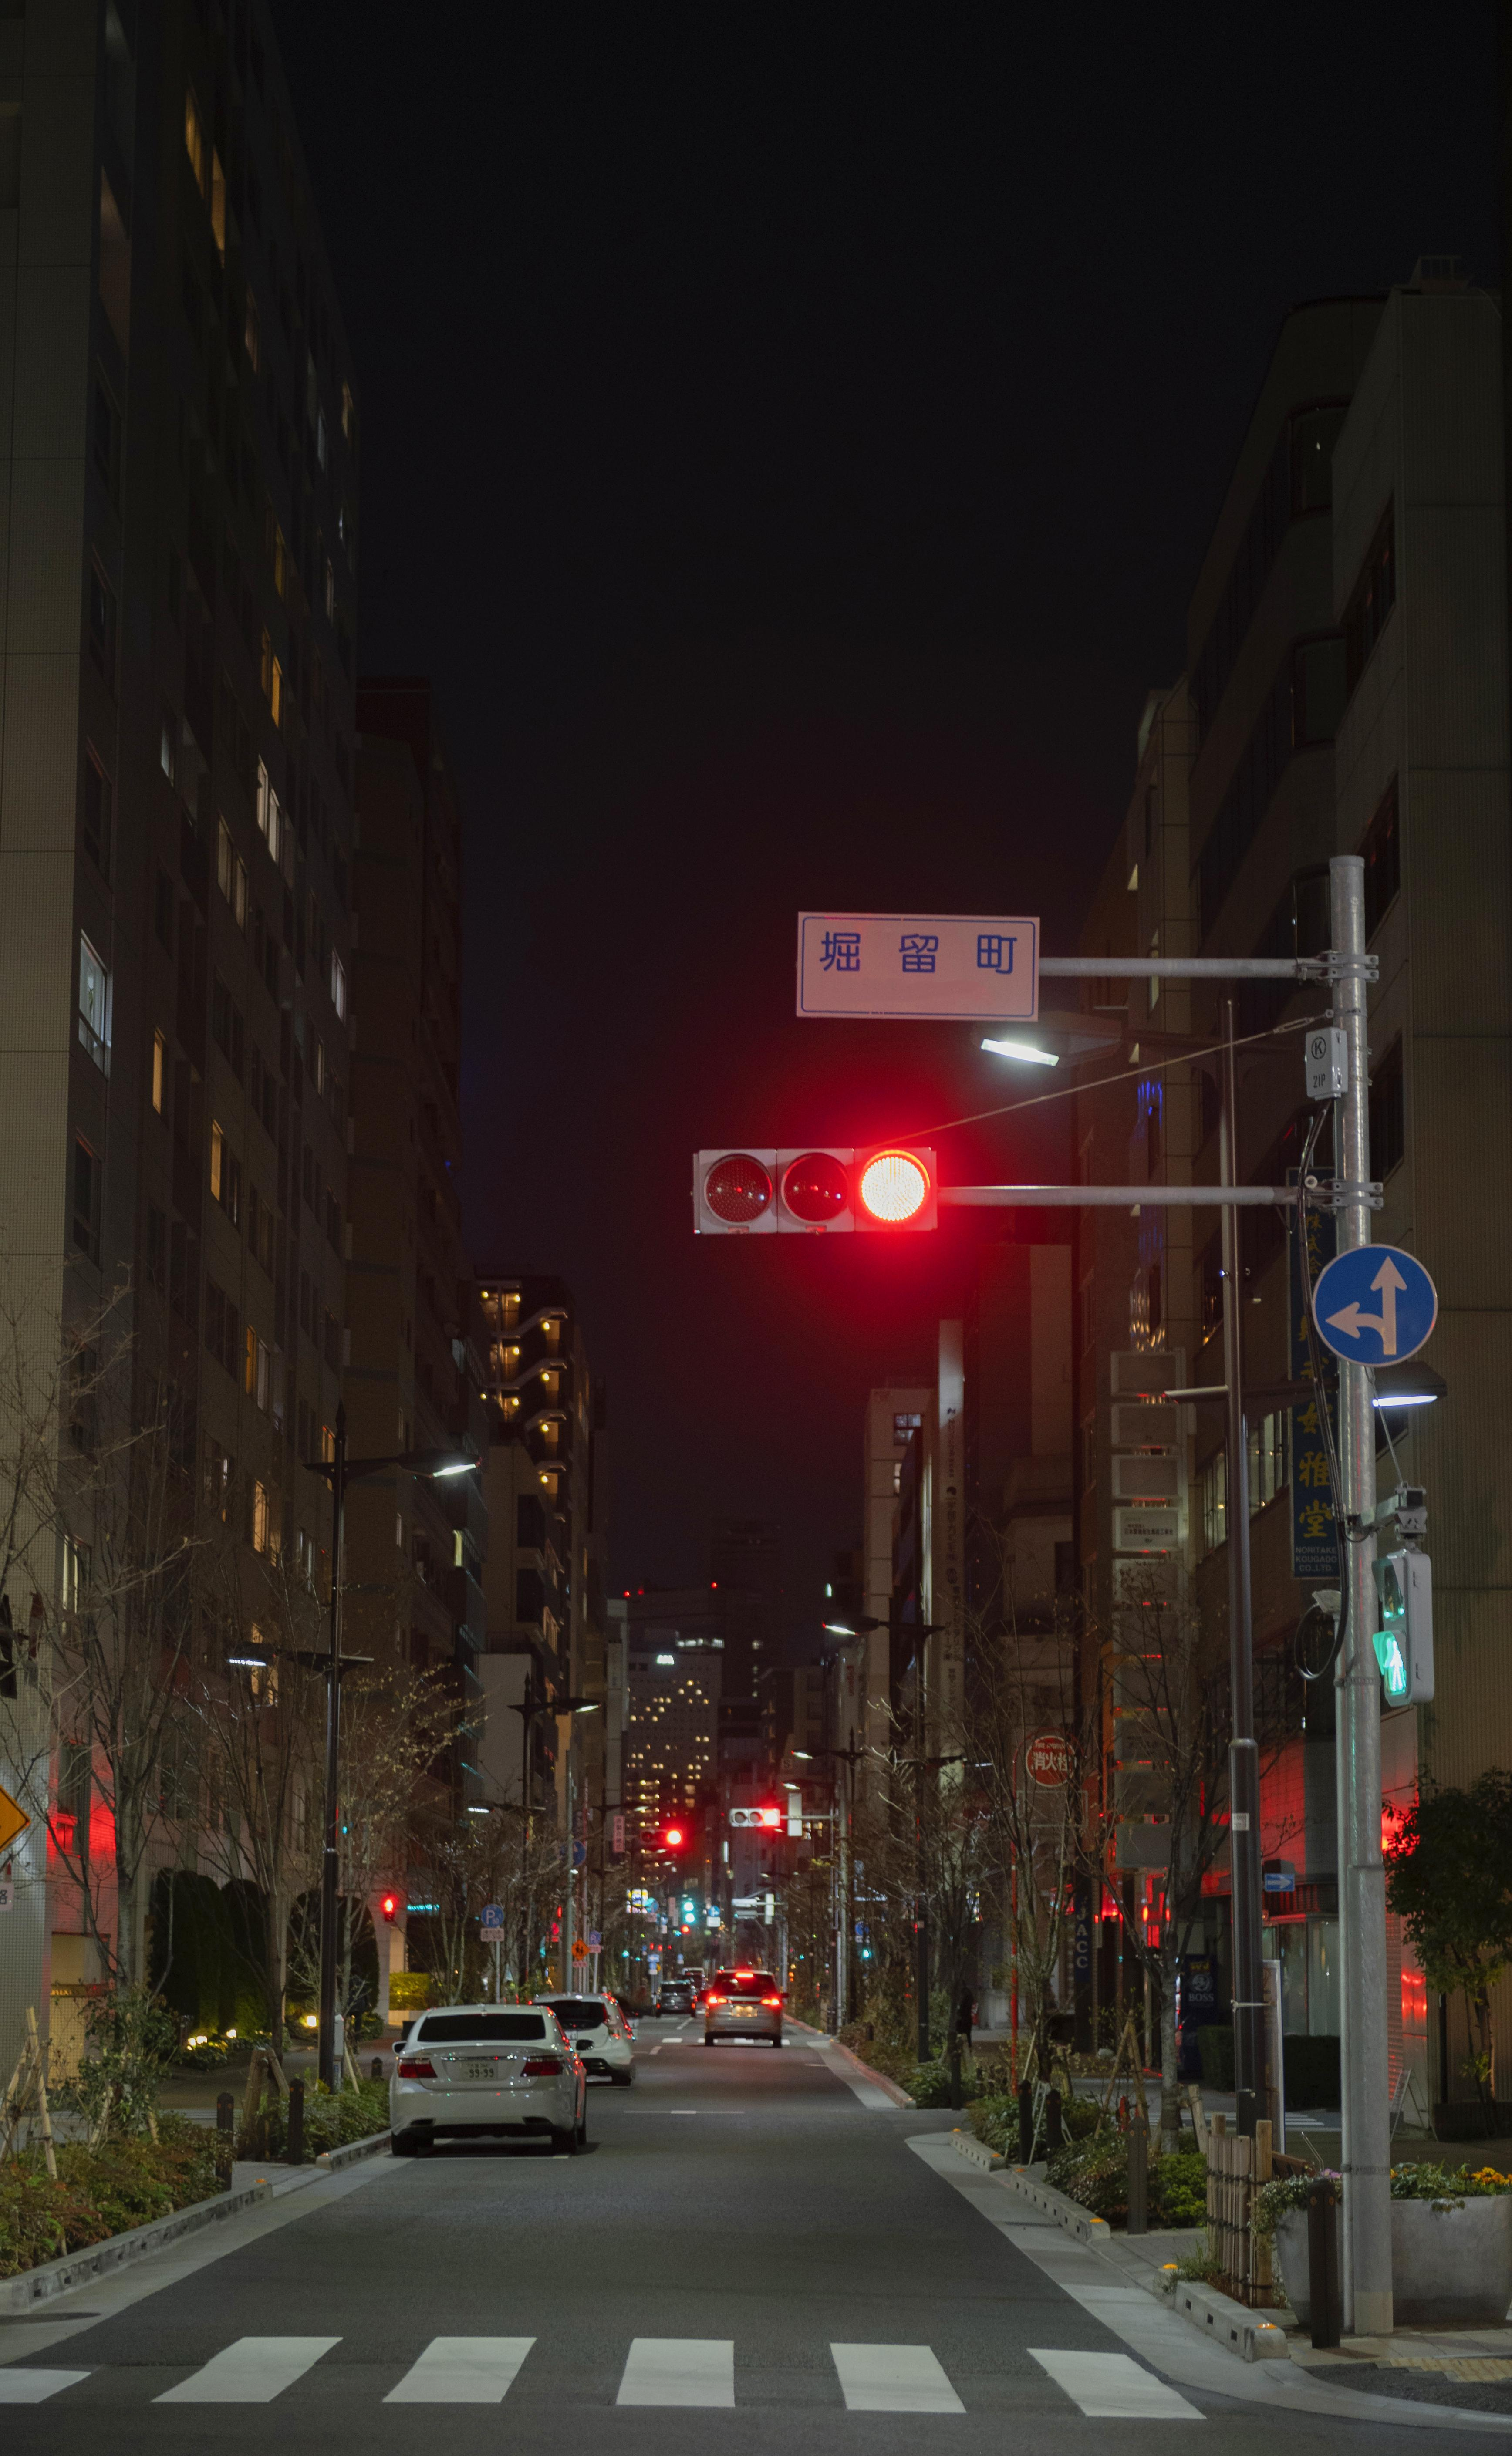car: (374, 1979, 582, 2153), (551, 1975, 645, 2072), (696, 1953, 782, 2047)
traffic light: (610, 1042, 1114, 1282)
